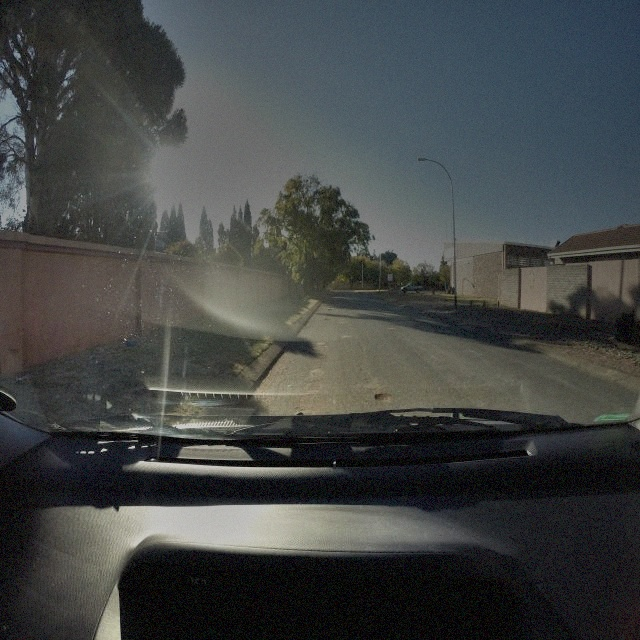pothole: (372, 391, 393, 403)
